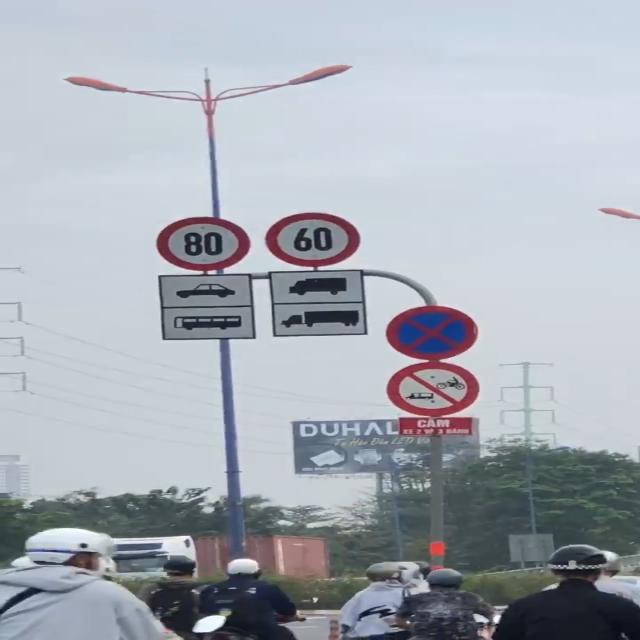Bien bao cam dung xe va do xe: (382, 303, 482, 362)
Bien bao toc do toi da cho phep: (153, 216, 252, 272), (266, 213, 366, 267)
